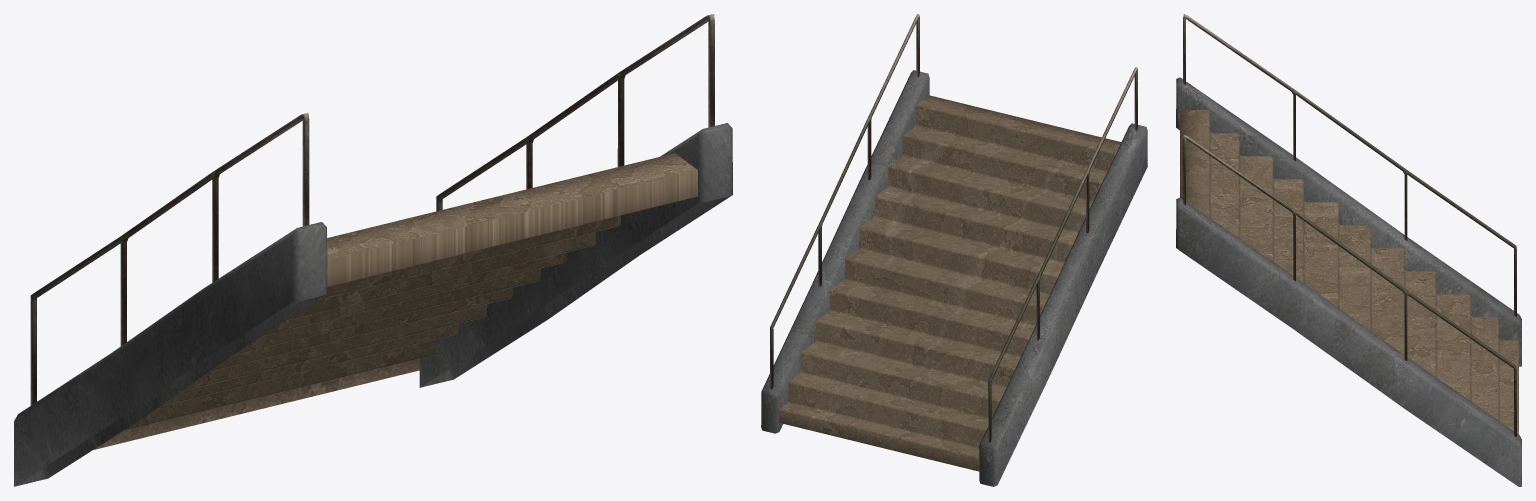
Rendered from Stairs.fbx.
The picture shows the model from 3 angles, left to right: view 1: azimuth 30°, elevation 25°; view 2: azimuth 150°, elevation 25°; view 3: azimuth 270°, elevation 25°; orthographic projection. The views are drawn at different scales.
Visible parts, largest first — view 1: Plane.008; view 2: Plane.008; view 3: Plane.008.
Part boxes in pixels (x1,y1,x2,y2): Plane.008: (14,14,732,486); Plane.008: (761,14,1147,486); Plane.008: (1176,14,1521,486).
Size of the model in its own units: 591 by 735 by 661.
